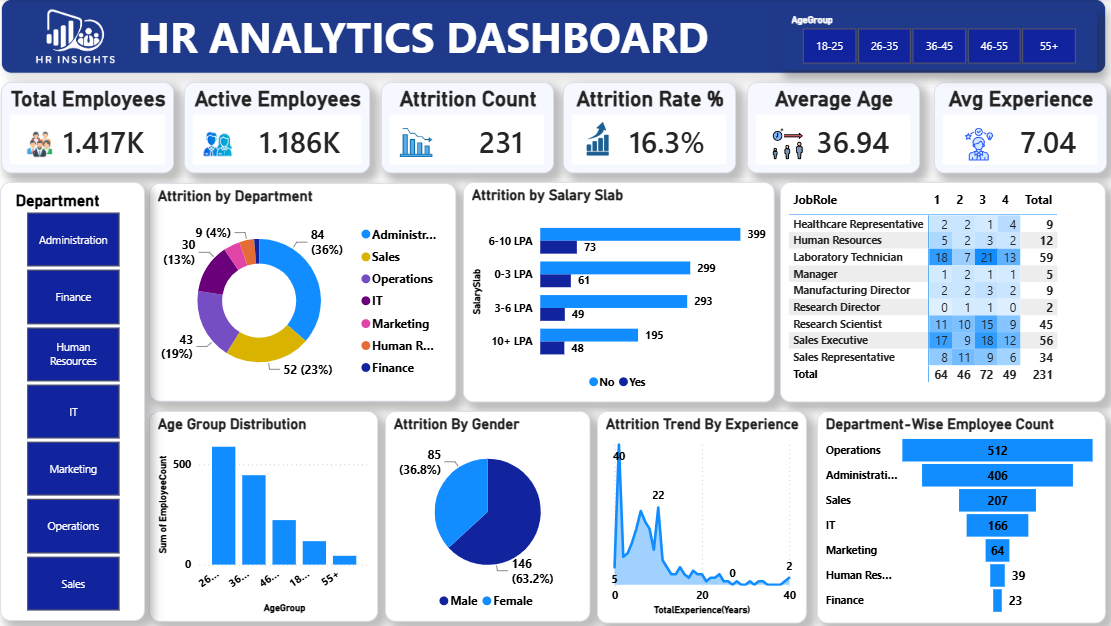

The page's visual inventory and layout, read from the dashboard file:
{"tool":"powerbi","page":{"name":"HR ANALYTICS DASHBOARD","canvas":[1280,720],"ordinal":0},"visuals":[{"type":"textbox","box":[10,0,1259,85],"z":0},{"type":"image","box":[0,10.3,190.2,64.3],"z":1000},{"type":"cardVisual","title":"Total Employees","fields":{"Data":["CountNonNull(HR_Analytics-4.EmpID)"]},"box":[10,95,197,104],"z":2000},{"type":"cardVisual","title":"Active Employees","fields":{"Data":["CountNonNull(HR_Analytics-4.EmployeeCount)"]},"box":[218.5,95.1,212,104.1],"z":3000},{"type":"cardVisual","title":"Attrition Count","fields":{"Data":["Sum(HR_Analytics-4.AttritionCount)"]},"box":[443.4,95.1,196.6,104.1],"z":4000},{"type":"cardVisual","title":"Attrition Rate %","fields":{"Data":["HR_Analytics-4.Attrition Rate %"]},"box":[650.3,95.1,196.6,104.1],"z":5000},{"type":"cardVisual","title":"Average Age","fields":{"Data":["Avg(HR_Analytics-4.Age)"]},"box":[859.8,95.1,196.6,104.1],"z":6000},{"type":"cardVisual","title":"Avg Experience","fields":{"Data":["Avg(HR_Analytics-4.YearsatCompany)"]},"box":[1073.1,95.1,196.6,104.1],"z":7000},{"type":"image","box":[23.1,146.5,63,37.3],"z":8000},{"type":"image","box":[1094.9,146.5,59.1,37.3],"z":9000},{"type":"image","box":[884.2,146.5,45,36],"z":10000},{"type":"image","box":[661.8,134.9,56.5,45],"z":11000},{"type":"image","box":[463.9,146.5,38.6,33.4],"z":12000},{"type":"image","box":[237.8,149.1,37.3,32.1],"z":13000},{"type":"donutChart","title":"Attrition by Department","fields":{"Category":["HR_Analytics-4.Department"],"Y":["Sum(HR_Analytics-4.AttritionCount)"]},"box":[179,210,350,249],"z":14000},{"type":"clusteredBarChart","title":"Attrition by Salary Slab ","fields":{"Y":["CountNonNull(HR_Analytics-4.EmpID)"],"Category":["HR_Analytics-4.SalarySlab"],"Series":["HR_Analytics-4.Attrition"]},"box":[537,209,355,251],"z":15000},{"type":"pivotTable","title":"Attrition by Job Role & Job Satisfaction","fields":{"Rows":["HR_Analytics-4.JobRole"],"Values":["Sum(HR_Analytics-4.AttritionCount)"],"Columns":["HR_Analytics-4.JobSatisfaction"]},"box":[898,209,371,251],"z":16000},{"type":"columnChart","title":"Age Group Distribution","fields":{"Category":["HR_Analytics-4.AgeGroup"],"Y":["Sum(HR_Analytics-4.EmployeeCount)"]},"box":[179,469,260.9,240],"z":17000},{"type":"pieChart","title":"Attrition By Gender","fields":{"Category":["HR_Analytics-4.Gender"],"Y":["Sum(HR_Analytics-4.AttritionCount)"]},"box":[448,469,234,240],"z":18000},{"type":"areaChart","title":"Attrition Trend By Experience","fields":{"Category":["HR_Analytics-4.TotalExperience(Years)"],"Y":["Sum(HR_Analytics-4.AttritionCount)"]},"box":[689,469,239,242],"z":19000},{"type":"funnel","title":"Department-Wise Employee Count","fields":{"Y":["CountNonNull(HR_Analytics-4.EmpID)"],"Category":["HR_Analytics-4.Department"]},"box":[939.4,469.1,329,241.6],"z":20000},{"type":"slicer","fields":{"Values":["HR_Analytics-4.Department"]},"box":[9,209,165,500],"z":21000},{"type":"slicer","fields":{"Values":["HR_Analytics-4.AgeGroup"]},"box":[898,12,361,68],"z":21001}]}

Visuals, with their boxes in screenshot pixels (x1, y1, x2, y2), scaled from the page's 1280x720 canvas onto the 1111x626 screenshot:
textbox: (x1=9, y1=0, x2=1101, y2=74)
image: (x1=0, y1=9, x2=165, y2=65)
"Total Employees" cardVisual: (x1=9, y1=83, x2=180, y2=173)
"Active Employees" cardVisual: (x1=190, y1=83, x2=374, y2=173)
"Attrition Count" cardVisual: (x1=385, y1=83, x2=556, y2=173)
"Attrition Rate %" cardVisual: (x1=564, y1=83, x2=735, y2=173)
"Average Age" cardVisual: (x1=746, y1=83, x2=917, y2=173)
"Avg Experience" cardVisual: (x1=931, y1=83, x2=1102, y2=173)
image: (x1=20, y1=127, x2=75, y2=160)
image: (x1=950, y1=127, x2=1002, y2=160)
image: (x1=767, y1=127, x2=807, y2=159)
image: (x1=574, y1=117, x2=623, y2=156)
image: (x1=403, y1=127, x2=436, y2=156)
image: (x1=206, y1=130, x2=239, y2=158)
"Attrition by Department" donutChart: (x1=155, y1=183, x2=459, y2=399)
"Attrition by Salary Slab " clusteredBarChart: (x1=466, y1=182, x2=774, y2=400)
"Attrition by Job Role & Job Satisfaction" pivotTable: (x1=779, y1=182, x2=1101, y2=400)
"Age Group Distribution" columnChart: (x1=155, y1=408, x2=382, y2=616)
"Attrition By Gender" pieChart: (x1=389, y1=408, x2=592, y2=616)
"Attrition Trend By Experience" areaChart: (x1=598, y1=408, x2=805, y2=618)
"Department-Wise Employee Count" funnel: (x1=815, y1=408, x2=1101, y2=618)
slicer - HR_Analytics-4.Department: (x1=8, y1=182, x2=151, y2=616)
slicer - HR_Analytics-4.AgeGroup: (x1=779, y1=10, x2=1093, y2=70)
